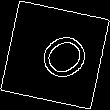O_SW: (22, 23, 88, 87)
